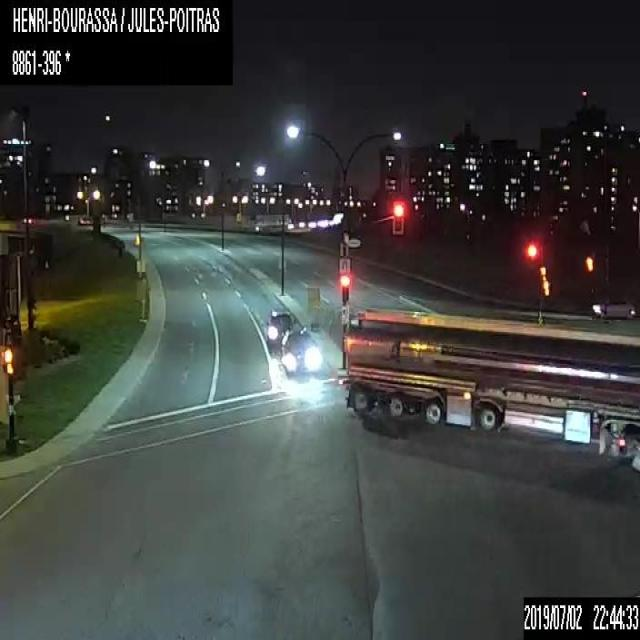vehicle: (344, 305, 639, 472), (280, 329, 321, 375), (264, 309, 292, 352), (591, 294, 634, 319)
